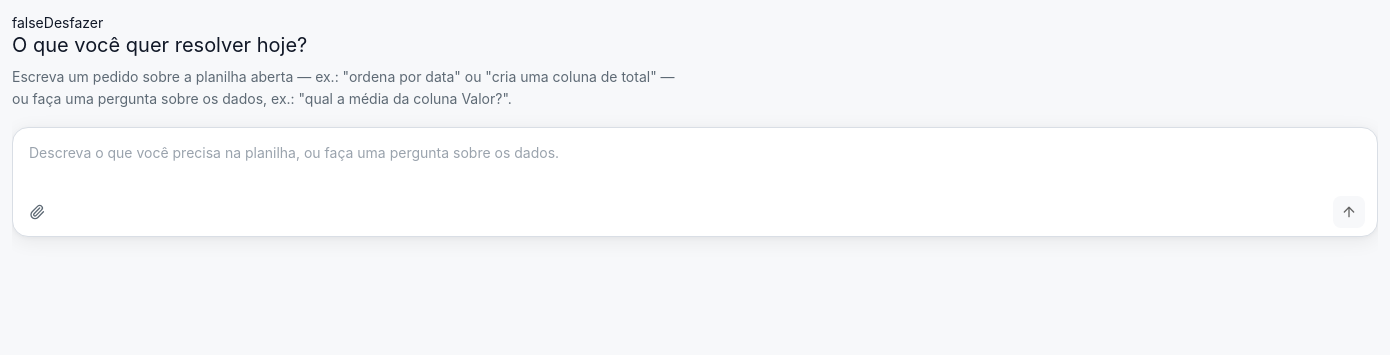
Test: UnifiedChatTool › override re-submits the original prompt with overrideIntent
Type "Tenho PROCV, mas quero operação" into the text box named "Pedido" at x=695, y=158, box [13,128,1377,188]
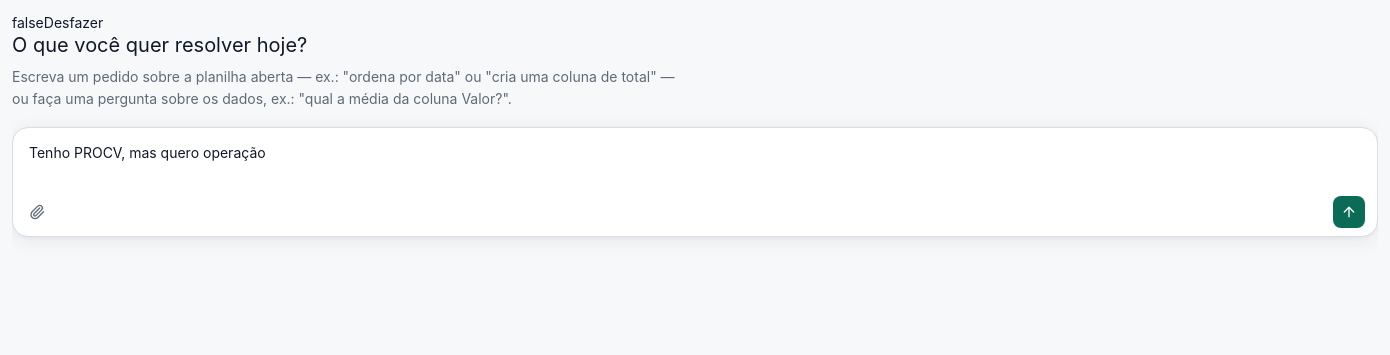
Click the button named "Enviar" at x=1349, y=212, box [1333,196,1365,228]
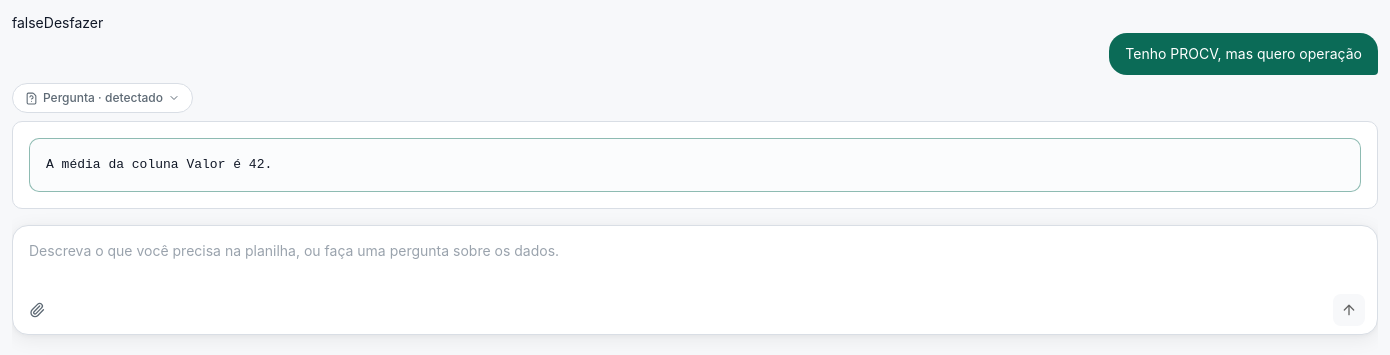
Expected: the text "A média da coluna Valor é 42." is shown, [46,157,272,172]
Click the button with aria-label "Tipo detectado: Pergunta" at x=102, y=98, box [12,83,193,113]
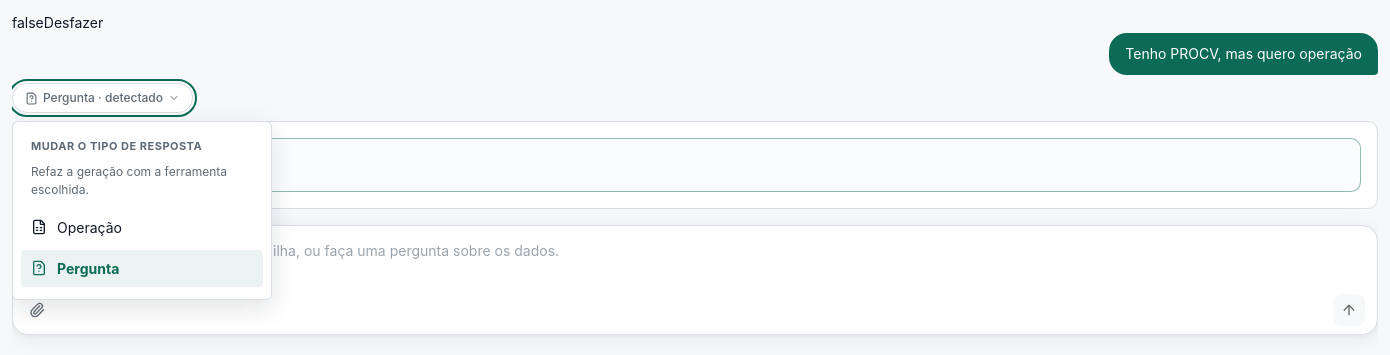
Click the option "Operação" at x=142, y=227, box [21,209,263,246]
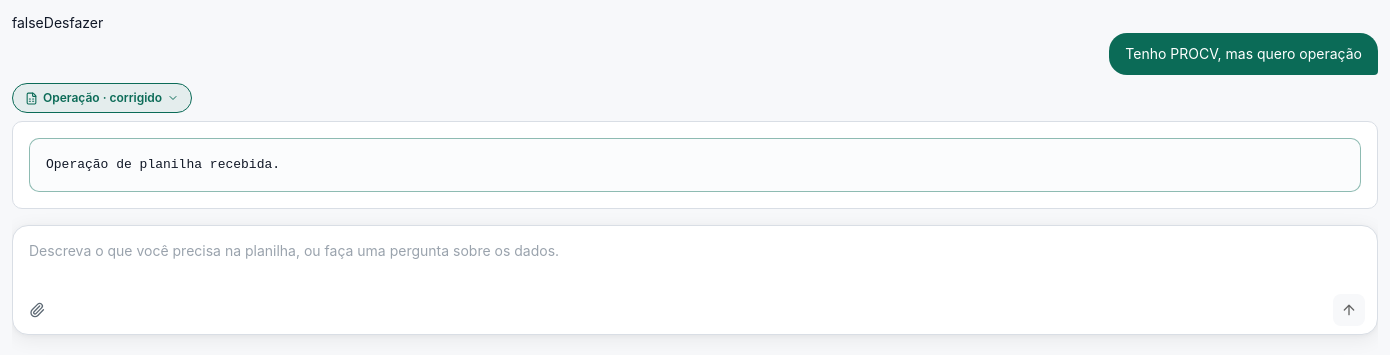
Expected: the text "Operação de planilha recebida." is shown, [46,157,280,172]
Expected: the button "Operação · corrigido" is shown, [12,83,192,113]
